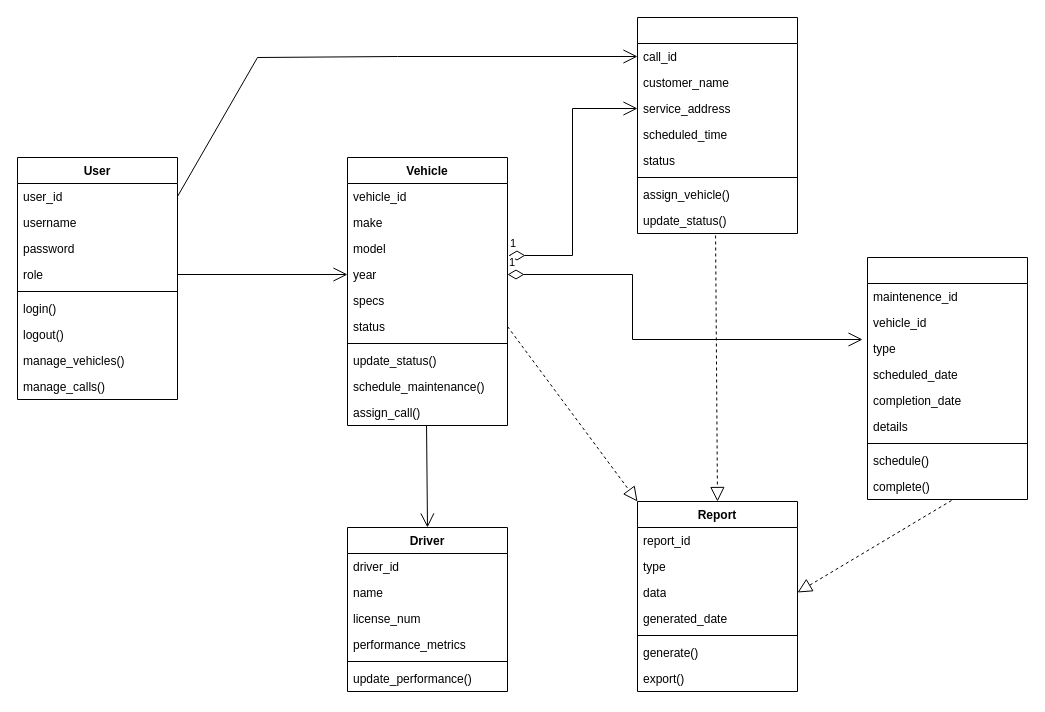
This 1045x712 diagram has some shape labels left out. The box of each missing label's shape, as (x1, y1, x2, y2) in pixels:
Maintenance: (866, 256, 1028, 500)
ServiceCall: (636, 16, 798, 234)
